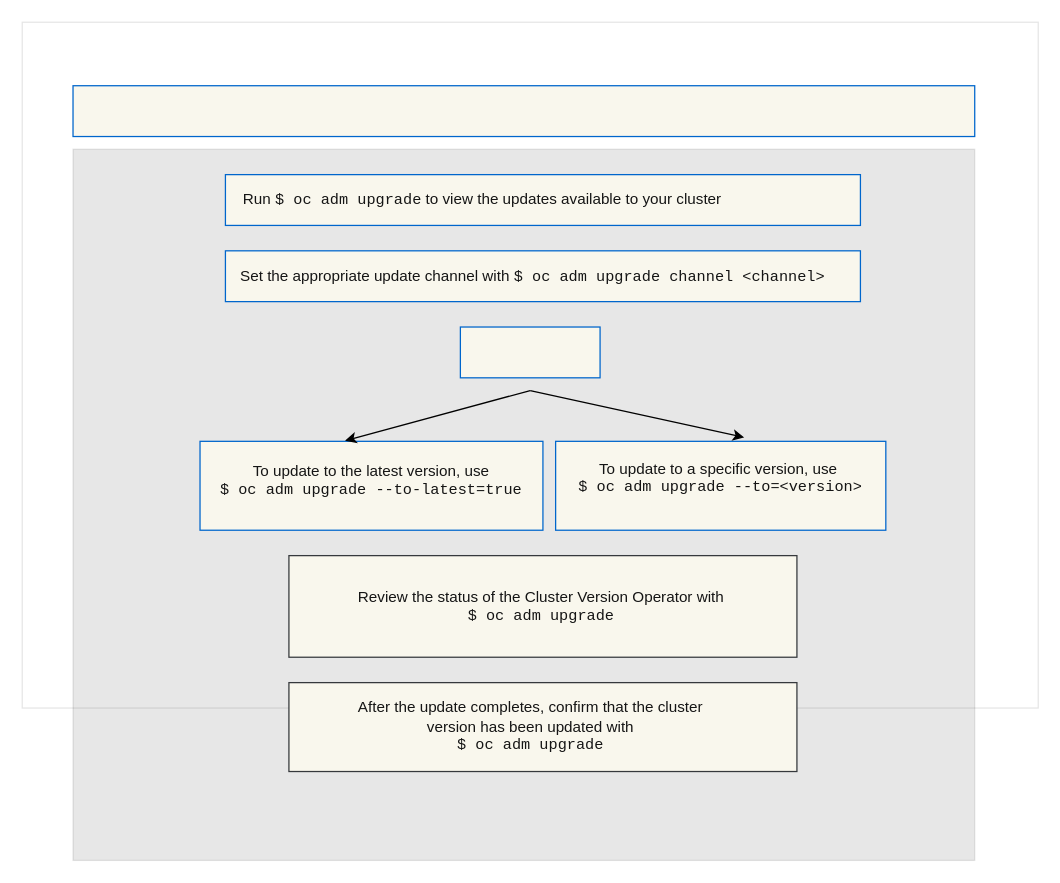
Image size: 1060x883. Some labels were removed from this diagram. The shapes that lost their labels are listed below. From the top down, each one's centre as x and y in pixels, then its label:
At [523,110]: "Updating a cluster through the CLI".
At [529,352]: "Apply an update".
